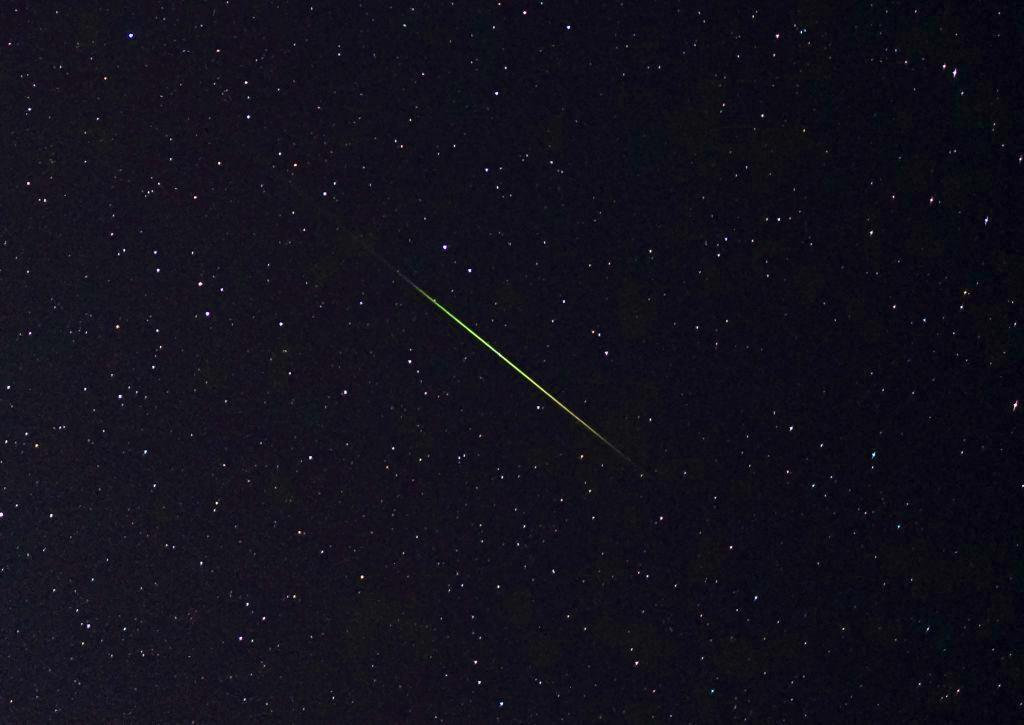meteorite: (415, 276, 679, 504)
